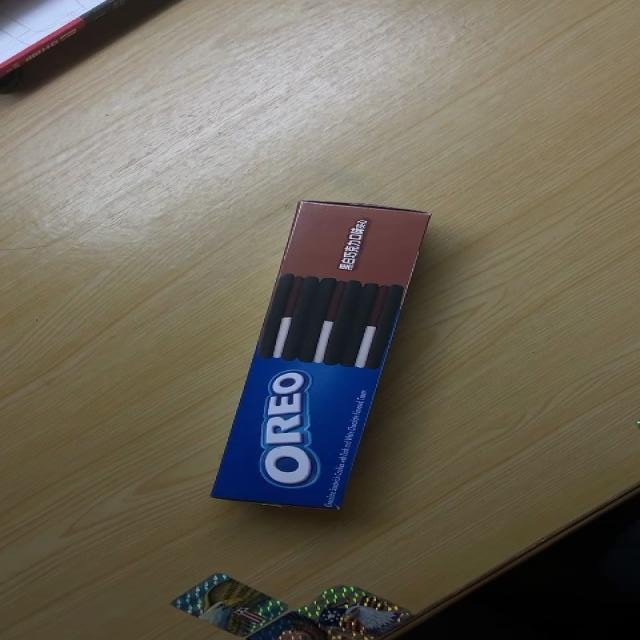Oreo: (208, 198, 437, 511)
